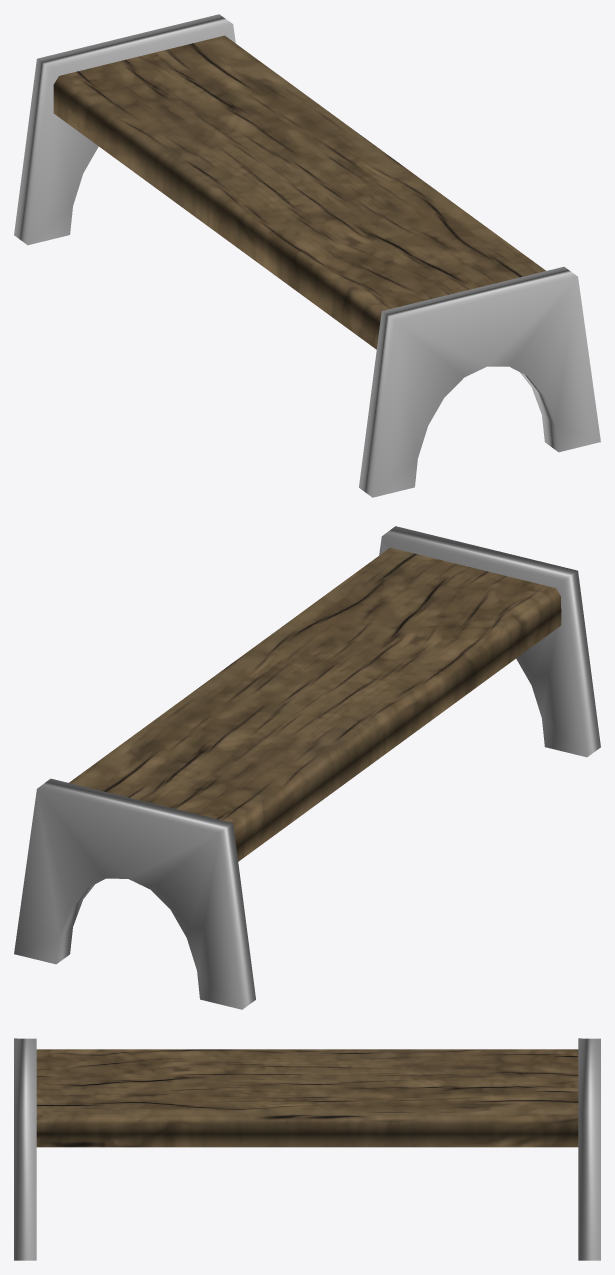
File: WoodBench.fbx
3 views of the same model, one above another, from view 1: azimuth 30°, elevation 25°; view 2: azimuth 150°, elevation 25°; view 3: azimuth 270°, elevation 25° (orthographic). The views are drawn at different scales.
Parts seen in each view (by area): view 1: Mesh; view 2: Mesh; view 3: Mesh.
Part boxes in pixels (bbox=[...]): Mesh: bbox=[14, 14, 600, 497]; Mesh: bbox=[14, 526, 600, 1009]; Mesh: bbox=[14, 1038, 600, 1260].
Size of the model in its own units: 58.42 by 41.82 by 159.
2 materials, 1 textured.
